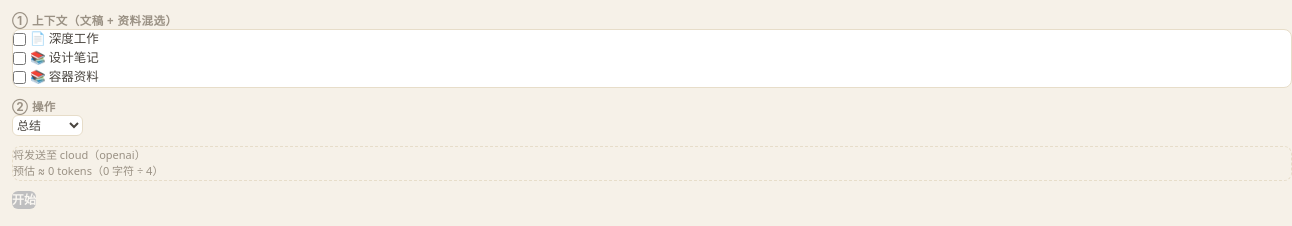
Test: AIWorkbench › 出站提示（铁律 5）：cloud 路由明示将发送至；Ollama 完全本地；未配置给出设置指引
The image size is (1292, 226).
Expected: the text with test id "ai-outbound-note" reads "将发送至 cloud（openai）", left=13, top=147, right=146, bottom=162
// 切到改写不在工作台 op 列表 → 用 op 下拉切翻译（路由表无 translate）→ 提示未配置
Select "翻译" in the dropdown with test id "ai-op-select": (48, 125) left=12, top=115, right=83, bottom=136
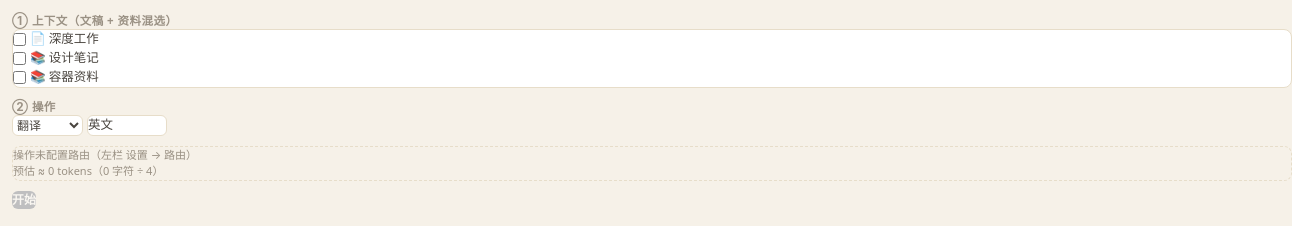
Result: the text with test id "ai-outbound-note" shows "未配置路由" at left=13, top=147, right=197, bottom=162
